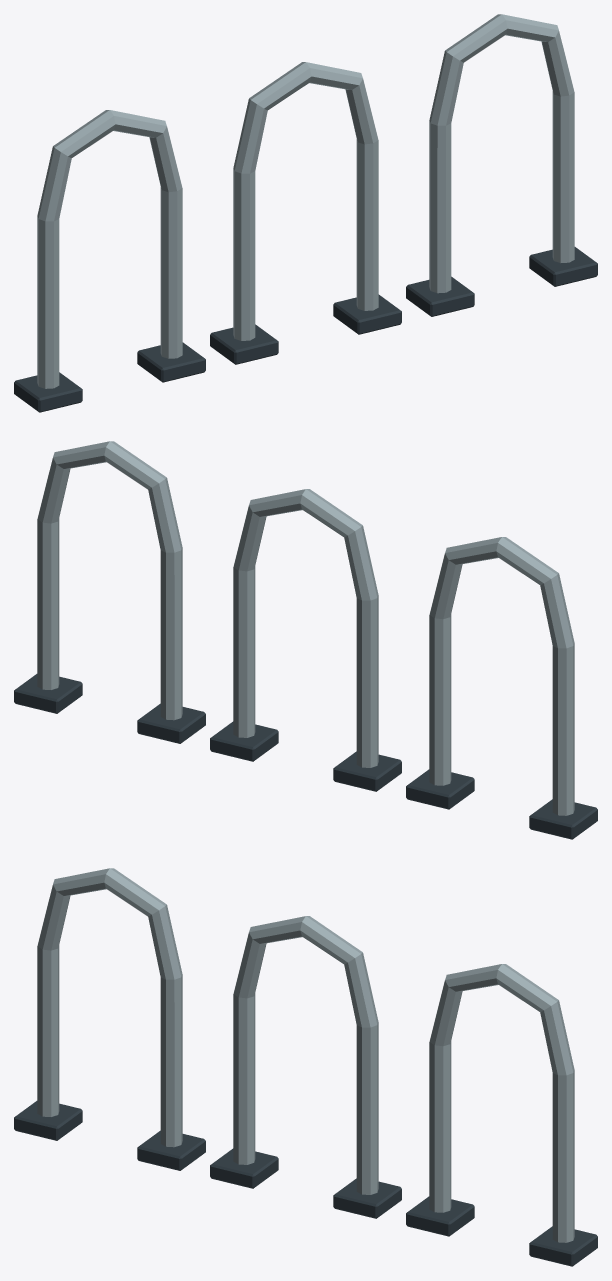
The model's file is Bike_Rack_Loops.glb.
3 renders of one model, top to bottom at view 1: azimuth 30°, elevation 25°; view 2: azimuth 150°, elevation 25°; view 3: azimuth 330°, elevation 25°, orthographic.
Visible parts, largest first — view 1: Bike_Rack_Loops; view 2: Bike_Rack_Loops; view 3: Bike_Rack_Loops.
Boxes of the visible parts, x1,y1,x2,y2 form: Bike_Rack_Loops: (14,14,597,412); Bike_Rack_Loops: (14,441,597,839); Bike_Rack_Loops: (14,868,597,1266).
Bounding box in the file's own units: 2 × 0.935 × 0.16.
